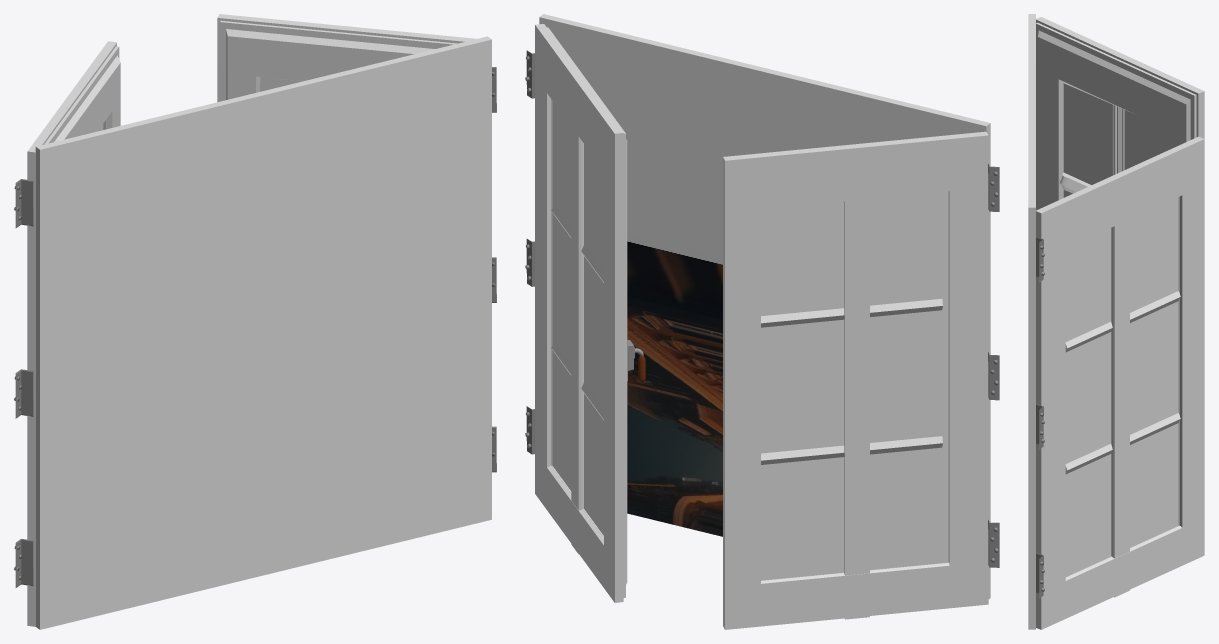
The model's file is fereastra.fbx.
The picture shows the model from 3 angles, left to right: view 1: azimuth 30°, elevation 25°; view 2: azimuth 150°, elevation 25°; view 3: azimuth 270°, elevation 25°; orthographic projection. The views are drawn at different scales.
Visible parts, largest first — view 1: Cube.001, Cube.006, Cube.041, Cube.039, Cube.005, Cube.003, Cube.052, Cube.053, Cube.054, Cube.040; view 2: Cube.001, Cube.041, Plane.003, Cube.003, Plane, Cube.038, Cube.007, Cube.005, Cube.037, Cube.036, Cube.040, Cube.006; view 3: Cube.003, Plane, Cube.039, Cube.007, Plane.003, Cube.001, Cube.040, Cube.041, Cube.008, Cube.009, Cube.038, Cube.037 (+3 smaller).
Boxes of the visible parts, x1=… form: Cube.001: x1=35, y1=36, x2=491, y2=629; Cube.006: x1=226, y1=29, x2=434, y2=99; Cube.041: x1=27, y1=41, x2=116, y2=626; Cube.039: x1=54, y1=55, x2=120, y2=141; Cube.005: x1=220, y1=20, x2=456, y2=101; Cube.003: x1=217, y1=14, x2=476, y2=102; Cube.052: x1=15, y1=179, x2=33, y2=228; Cube.053: x1=15, y1=369, x2=33, y2=418; Cube.054: x1=15, y1=539, x2=33, y2=587; Cube.040: x1=44, y1=46, x2=119, y2=144; Cube.001: x1=539, y1=14, x2=990, y2=598; Cube.041: x1=723, y1=131, x2=988, y2=629; Plane.003: x1=761, y1=191, x2=944, y2=580; Cube.003: x1=535, y1=24, x2=623, y2=602; Plane: x1=553, y1=102, x2=603, y2=535; Cube.038: x1=844, y1=199, x2=869, y2=619; Cube.007: x1=571, y1=127, x2=583, y2=554; Cube.005: x1=547, y1=27, x2=625, y2=597; Cube.037: x1=761, y1=298, x2=942, y2=327; Cube.036: x1=761, y1=436, x2=942, y2=464; Cube.040: x1=945, y1=191, x2=948, y2=562; Cube.006: x1=626, y1=139, x2=627, y2=584; Cube.003: x1=1036, y1=136, x2=1204, y2=629; Plane: x1=1065, y1=196, x2=1179, y2=576; Cube.039: x1=1037, y1=30, x2=1190, y2=209; Cube.007: x1=1111, y1=219, x2=1129, y2=597; Plane.003: x1=1063, y1=84, x2=1168, y2=197; Cube.001: x1=1028, y1=14, x2=1035, y2=629; Cube.040: x1=1036, y1=22, x2=1196, y2=210; Cube.041: x1=1036, y1=17, x2=1204, y2=138; Cube.008: x1=1065, y1=291, x2=1180, y2=352; Cube.009: x1=1065, y1=413, x2=1180, y2=474; Cube.038: x1=1113, y1=105, x2=1121, y2=174; Cube.037: x1=1059, y1=172, x2=1091, y2=193.
Size of the model in its own units: 497 by 477 by 180.
60 materials, 1 textured.
